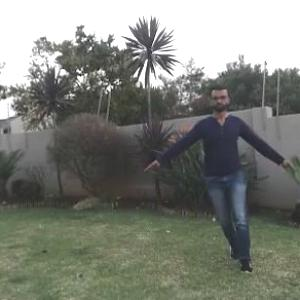land: (148, 89, 275, 245)
